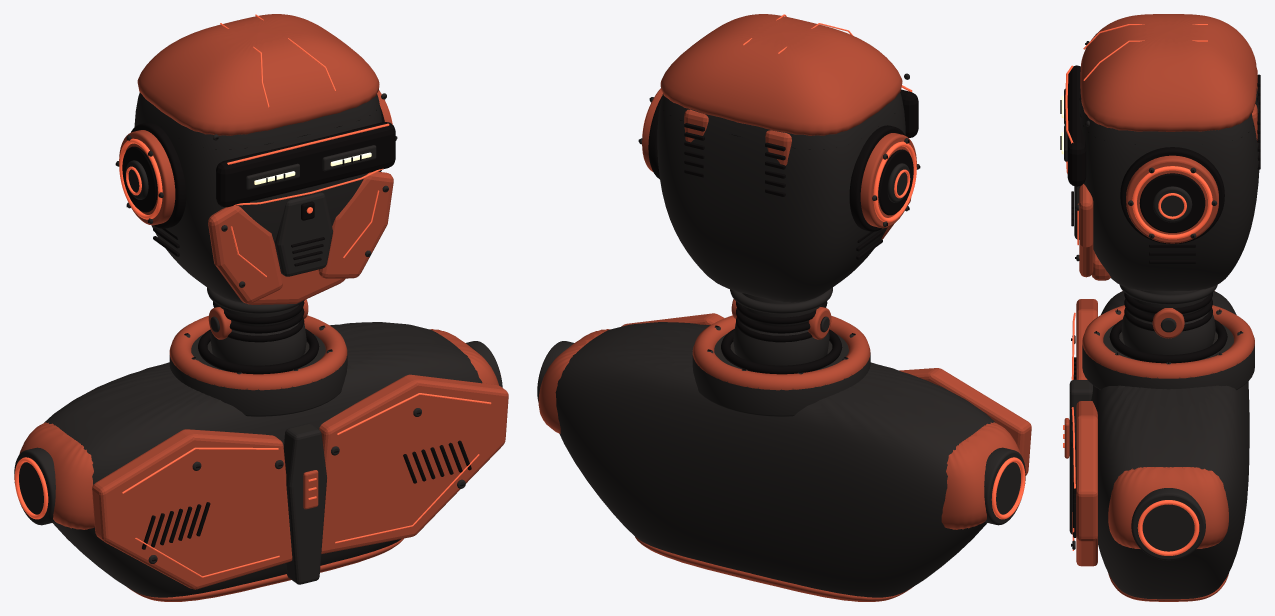
Rendered from robot.glb.
The picture shows the model from 3 angles, left to right: view 1: azimuth 30°, elevation 25°; view 2: azimuth 150°, elevation 25°; view 3: azimuth 270°, elevation 25°; orthographic projection. The views are drawn at different scales.
Visible parts, largest first — view 1: Thoracic chassis, Pectoral armor, Pectoral armor.001, Crown shell, Helmet core, Optical visor, Sternum cover, Cheek armor, Collar armor lip, Cheek armor.001, Collar plinth, Shoulder cap (+14 smaller); view 2: Thoracic chassis, Helmet core, Crown shell, Collar armor lip, Collar plinth, Shoulder cap, Neck spherical bearing, Pectoral armor, Shoulder blanking cap, Bust lower rim, Auditory shell, Shoulder cap.001 (+7 smaller); view 3: Thoracic chassis, Crown shell, Helmet core, Shoulder cap.001, Collar armor lip, Shoulder blanking cap.001, Pectoral armor.001, Collar plinth, Auditory shell.001, Neck spherical bearing, Auditory inner recess.001, Optical visor (+16 smaller).
Part boxes in pixels (x1,y1,x2,y2): Thoracic chassis: (44, 322, 482, 597); Pectoral armor: (92, 429, 292, 589); Pectoral armor.001: (319, 374, 508, 553); Crown shell: (137, 14, 379, 135); Helmet core: (134, 92, 381, 302); Optical visor: (216, 122, 395, 207); Sternum cover: (283, 423, 326, 584); Cheek armor: (208, 205, 282, 303); Collar armor lip: (169, 315, 347, 390); Cheek armor.001: (318, 171, 393, 278); Collar plinth: (169, 334, 347, 416); Shoulder cap: (19, 422, 94, 529); Thoracic chassis: (555, 322, 995, 597); Helmet core: (657, 92, 905, 302); Crown shell: (660, 14, 902, 135); Collar armor lip: (692, 315, 870, 390); Collar plinth: (692, 334, 870, 416); Shoulder cap: (941, 422, 1020, 529); Neck spherical bearing: (733, 322, 829, 365); Pectoral armor: (899, 368, 1031, 475); Shoulder blanking cap: (984, 447, 1025, 525); Bust lower rim: (635, 537, 912, 601); Auditory shell: (860, 133, 916, 228); Shoulder cap.001: (538, 329, 610, 433); Thoracic chassis: (1091, 291, 1249, 599); Crown shell: (1080, 14, 1256, 131); Helmet core: (1079, 88, 1259, 291); Shoulder cap.001: (1108, 467, 1228, 548); Collar armor lip: (1082, 305, 1254, 378); Shoulder blanking cap.001: (1131, 488, 1205, 560); Pectoral armor.001: (1076, 401, 1097, 566); Collar plinth: (1082, 324, 1254, 389); Auditory shell.001: (1126, 155, 1218, 243); Neck spherical bearing: (1121, 312, 1215, 354); Auditory inner recess.001: (1139, 173, 1205, 232); Optical visor: (1067, 65, 1086, 186).
Bounding box in the file's own units: 2.61 × 2.9 × 1.02.
